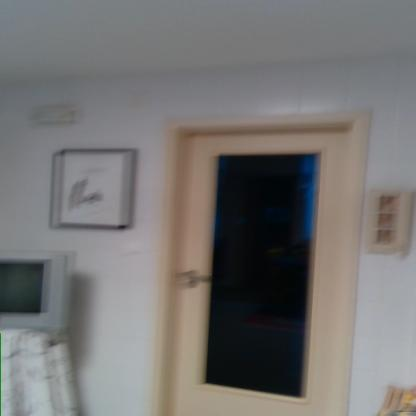closed: (166, 110, 375, 414)
